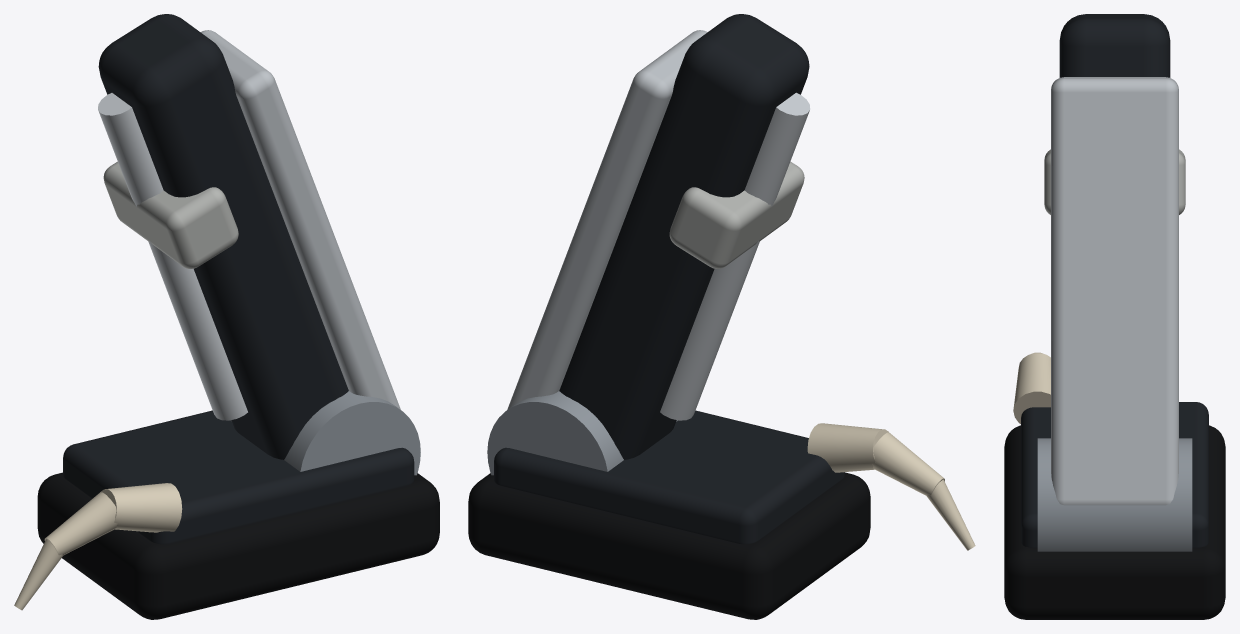
Rendered from right_foot_link.glb.
The picture shows the model from 3 angles, left to right: view 1: azimuth 30°, elevation 25°; view 2: azimuth 150°, elevation 25°; view 3: azimuth 270°, elevation 25°; orthographic projection. The views are drawn at different scales.
Parts seen in each view (by area): view 1: right_foot_link; view 2: right_foot_link; view 3: right_foot_link.
Boxes of the visible parts, <box> form: right_foot_link: <box>14,14,439,619</box>; right_foot_link: <box>468,14,975,619</box>; right_foot_link: <box>1004,14,1225,619</box>.
Size of the model in its own units: 0.2061 by 0.2548 by 0.1.
